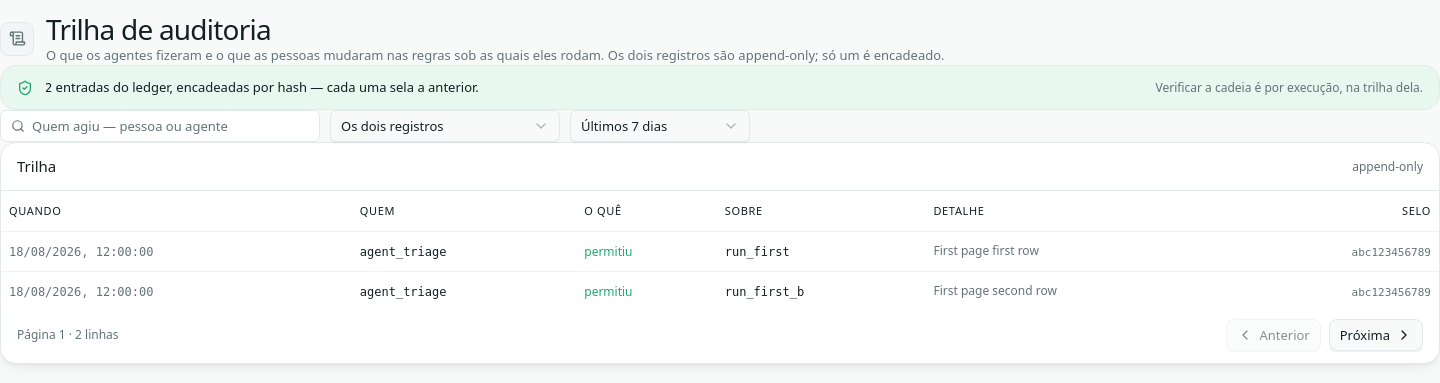
Test: audit pagination › moves between cursor pages instead of appending every fetched row into one card
The width and height of the screenshot is (1440, 383).
Expected: the text "First page first row" is shown, [925,231,1230,271]
Expected: the text "First page second row" is shown, [925,271,1230,311]
Click the button "Próxima".
click(1376, 335)  # box [1329,319,1423,351]
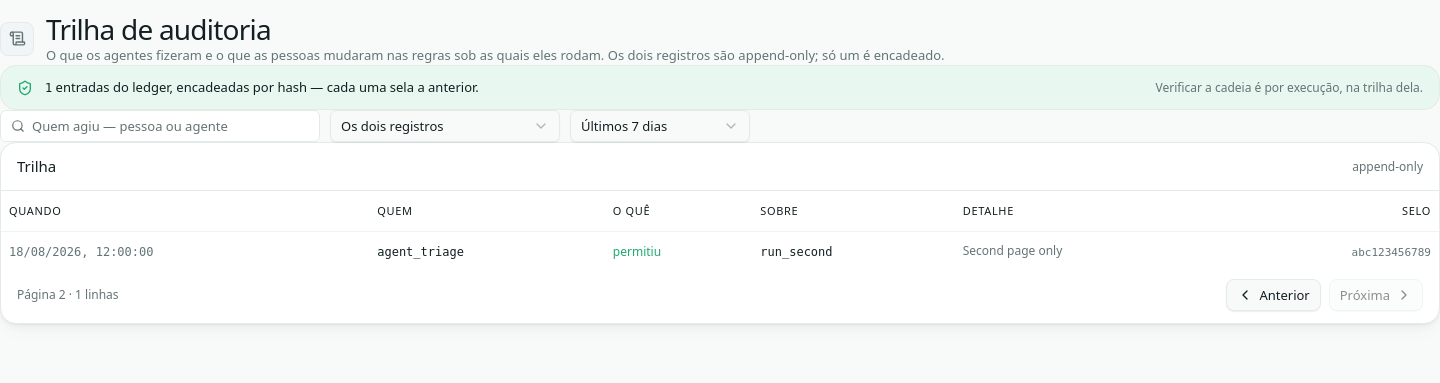
Expected: the text "Second page only" is shown, [955,231,1220,271]
Expected: the text "First page first row" is gone
Expected: the text "First page second row" is gone
